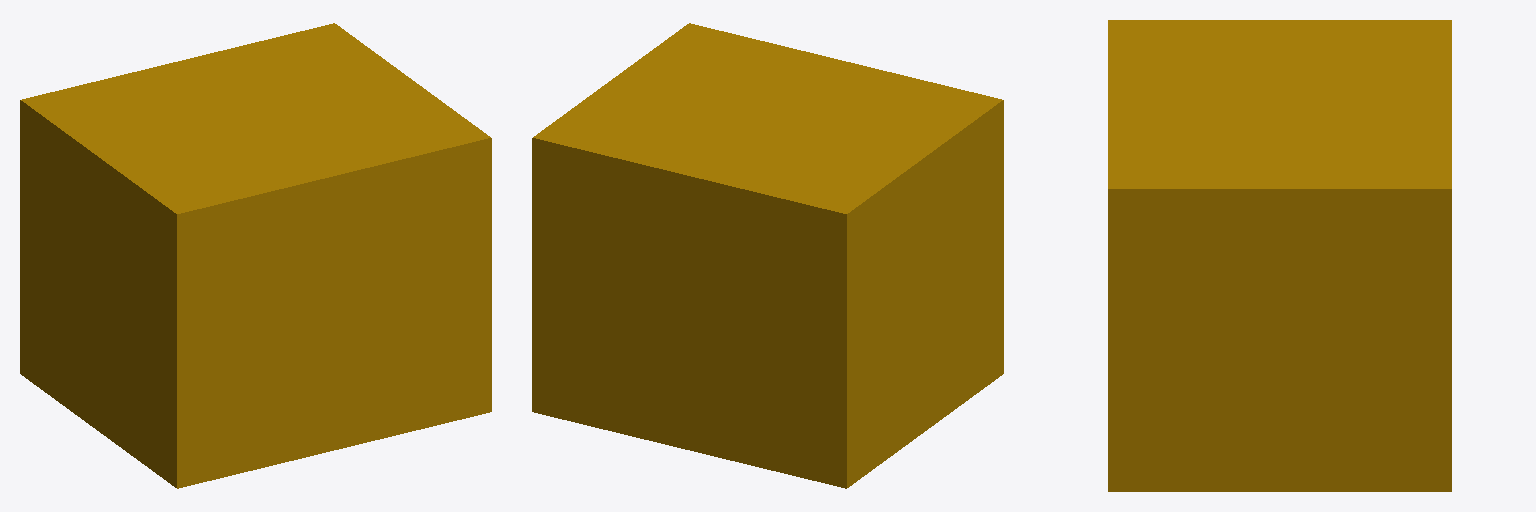
robot.urdf — assembly_1:
<?xml version="1.0" ?>
<robot name="assembly_1">
  <link name="base">
    <inertial>
      <origin rpy="0 0 0" xyz="0 0 0"/>
      <mass value="0.001"/>
      <inertia ixx="0.000001" ixy="0" ixz="0" iyy="0.000001" iyz="0" izz="0.000001"/>
    </inertial>
  </link>
  <joint name="floating_base" type="fixed">
    <origin rpy="0 0 0" xyz="0 0 0"/>
    <parent link="base"/>
    <child link="Part_1"/>
  </joint>
  <link name="Part_1">
    <visual>
      <origin xyz="0 0 0" rpy="0 0 0"/>
      <geometry>
        <mesh filename="meshes/Part_1.stl"/>
      </geometry>
      <material name="Part_1_material">
        <color rgba="0.72941176 0.55686275 0.054901961 1"/>
      </material>
    </visual>
    <collision>
      <origin xyz="0 0 0" rpy="0 0 0"/>
      <geometry>
        <mesh filename="meshes/Part_1.stl"/>
      </geometry>
    </collision>
    <inertial>
      <mass value="0.025855023"/>
      <inertia ixx="3.6573418e-06" iyy="3.2719599e-06" izz="3.8310487e-06" ixy="0" ixz="0" iyz="0"/>
      <origin xyz="0 0 0" rpy="0 0 0"/>
    </inertial>
  </link>
  <joint name="Revolute_1" type="revolute">
    <origin xyz="-0.014987169 0.0025493463 -0.0012532182" rpy="1.5707963 0 1.5707963"/>
    <parent link="Part_1"/>
    <child link="Part_1_2"/>
    <limit effort="80" velocity="5" lower="-1.5707963" upper="1.5707963"/>
    <axis xyz="0 0 1"/>
  </joint>
  <link name="Part_1_2">
    <visual>
      <origin xyz="0 0 0" rpy="0 0 0"/>
      <geometry>
        <mesh filename="meshes/Part_1_2.stl"/>
      </geometry>
      <material name="Part_1_material_2">
        <color rgba="0.72941176 0.55686275 0.054901961 1"/>
      </material>
    </visual>
    <collision>
      <origin xyz="0 0 0" rpy="0 0 0"/>
      <geometry>
        <mesh filename="meshes/Part_1_2.stl"/>
      </geometry>
    </collision>
    <inertial>
      <mass value="0.025855023"/>
      <inertia ixx="3.2719599e-06" iyy="3.8310487e-06" izz="3.6573418e-06" ixy="0" ixz="0" iyz="0"/>
      <origin xyz="-0.0025493463 0.0012532182 -0.014987169" rpy="0 0 0"/>
    </inertial>
  </link>
  <joint name="Revolute_2" type="revolute">
    <origin xyz="0.014987169 0.0025493463 -0.0012532182" rpy="1.5707963 0 1.5707963"/>
    <parent link="Part_1"/>
    <child link="Part_1_3"/>
    <limit effort="80" velocity="5" lower="-1.5707963" upper="1.5707963"/>
    <axis xyz="0 0 -1"/>
  </joint>
  <link name="Part_1_3">
    <visual>
      <origin xyz="0 0 0" rpy="0 0 0"/>
      <geometry>
        <mesh filename="meshes/Part_1_3.stl"/>
      </geometry>
      <material name="Part_1_material_3">
        <color rgba="0.72941176 0.55686275 0.054901961 1"/>
      </material>
    </visual>
    <collision>
      <origin xyz="0 0 0" rpy="0 0 0"/>
      <geometry>
        <mesh filename="meshes/Part_1_3.stl"/>
      </geometry>
    </collision>
    <inertial>
      <mass value="0.025855023"/>
      <inertia ixx="3.2719599e-06" iyy="3.8310487e-06" izz="3.6573418e-06" ixy="0" ixz="0" iyz="0"/>
      <origin xyz="-0.0025493463 0.0012532182 0.014987169" rpy="0 0 0"/>
    </inertial>
  </link>
  <joint name="Revolute_4" type="revolute">
    <origin xyz="0 -0.0125 -0.014987169" rpy="1.5707963 -1.5707963 0"/>
    <parent link="Part_1_2"/>
    <child link="Part_1_4"/>
    <limit effort="80" velocity="5" lower="-1.5707963" upper="1.5707963"/>
    <axis xyz="0 0 -1"/>
  </joint>
  <link name="Part_1_4">
    <visual>
      <origin xyz="0 0 0" rpy="0 0 0"/>
      <geometry>
        <mesh filename="meshes/Part_1_4.stl"/>
      </geometry>
      <material name="Part_1_material_4">
        <color rgba="0.72941176 0.55686275 0.054901961 1"/>
      </material>
    </visual>
    <collision>
      <origin xyz="0 0 0" rpy="0 0 0"/>
      <geometry>
        <mesh filename="meshes/Part_1_4.stl"/>
      </geometry>
    </collision>
    <inertial>
      <mass value="0.025855023"/>
      <inertia ixx="3.6573418e-06" iyy="3.2719599e-06" izz="3.8310487e-06" ixy="0" ixz="0" iyz="0"/>
      <origin xyz="0 0.0025493463 0.015646782" rpy="0 0 0"/>
    </inertial>
  </link>
  <joint name="Revolute_3" type="revolute">
    <origin xyz="0 -0.0125 0.014987169" rpy="1.5707963 -1.5707963 0"/>
    <parent link="Part_1_3"/>
    <child link="Part_1_5"/>
    <limit effort="80" velocity="5" lower="-1.5707963" upper="1.5707963"/>
    <axis xyz="0 0 -1"/>
  </joint>
  <link name="Part_1_5">
    <visual>
      <origin xyz="0 0 0" rpy="0 0 0"/>
      <geometry>
        <mesh filename="meshes/Part_1_5.stl"/>
      </geometry>
      <material name="Part_1_material_5">
        <color rgba="0.72941176 0.55686275 0.054901961 1"/>
      </material>
    </visual>
    <collision>
      <origin xyz="0 0 0" rpy="0 0 0"/>
      <geometry>
        <mesh filename="meshes/Part_1_5.stl"/>
      </geometry>
    </collision>
    <inertial>
      <mass value="0.025855023"/>
      <inertia ixx="3.6573418e-06" iyy="3.2719599e-06" izz="3.8310487e-06" ixy="0" ixz="0" iyz="0"/>
      <origin xyz="0 0.0025493463 0.015646782" rpy="0 0 0"/>
    </inertial>
  </link>
</robot>

--- Render facts (derived) ---
The picture shows the robot from 3 angles, left to right: view 1: azimuth 30°, elevation 25°; view 2: azimuth 150°, elevation 25°; view 3: azimuth 270°, elevation 25°; orthographic projection.
Robot: assembly_1 — 6 links, 5 joints (4 revolute, 1 fixed); root link base; default pose: all joints at 0.
Links seen in each view (by area): view 1: Part_1_5; view 2: Part_1_5; view 3: Part_1_5.
Boxes of the visible links, x1,y1,x2,y2 form: Part_1_5: [20, 23, 491, 488]; Part_1_5: [532, 23, 1003, 488]; Part_1_5: [1108, 20, 1451, 491].
Bounding box of the posed robot: 0.03 × 0.0259 × 0.025 m (x, y, z).
1 mesh visuals loaded from 5 distinct referenced files (1 binary STL); not drawn: 4 (reference not matched to a file when rendering).